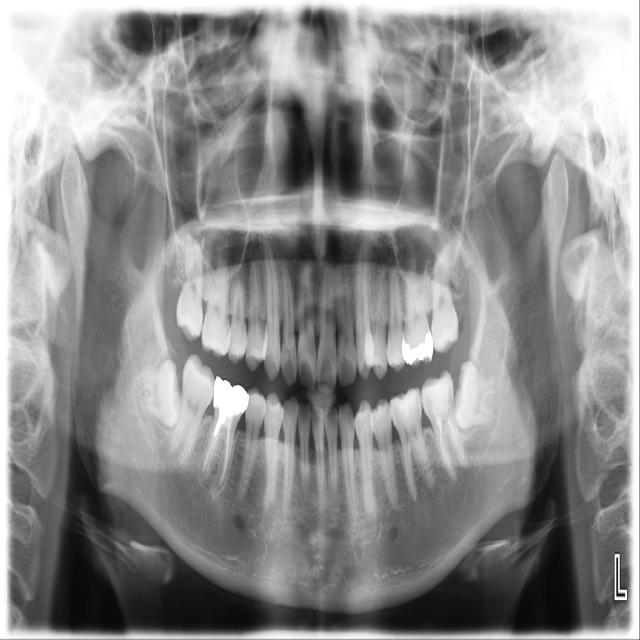Crown: (213, 376, 249, 431)
Filling: (420, 370, 454, 429), (402, 320, 433, 368)
Root Canal Treatment: (445, 419, 467, 461), (439, 423, 453, 473), (202, 433, 215, 470), (221, 429, 229, 488), (205, 434, 216, 472)
impacted tooth: (455, 362, 509, 430), (133, 358, 179, 425)
